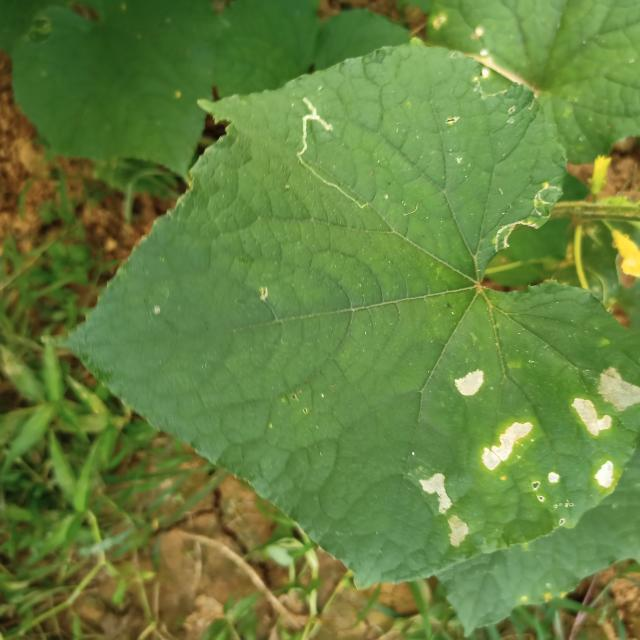disease_cucumber: (565, 360, 640, 497), (479, 416, 572, 518), (413, 468, 472, 558), (450, 362, 490, 402)
